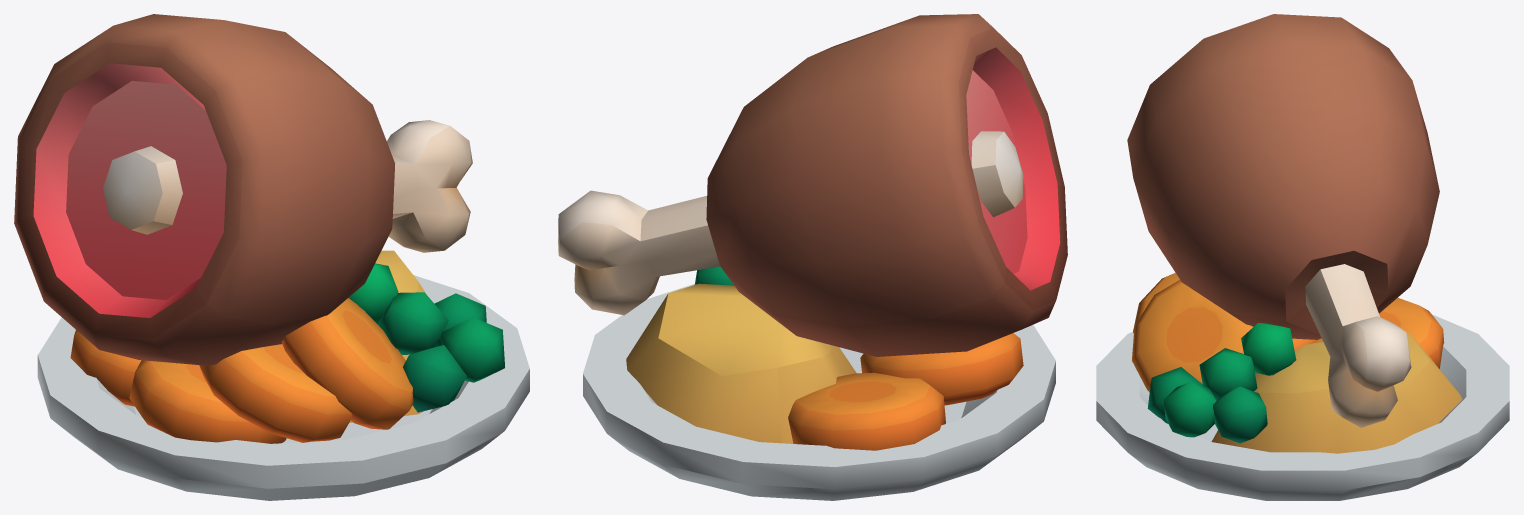
The model's file is food_dinner.obj.
The picture shows the model from 3 angles, left to right: view 1: azimuth 30°, elevation 25°; view 2: azimuth 150°, elevation 25°; view 3: azimuth 270°, elevation 25°; orthographic projection. The views are drawn at different scales.
Visible parts, largest first — view 1: food_dinner_Cylinder.116; view 2: food_dinner_Cylinder.116; view 3: food_dinner_Cylinder.116.
Boxes of the visible parts, box(x1,y1,x2,y2) form: food_dinner_Cylinder.116: box(14, 14, 529, 500); food_dinner_Cylinder.116: box(558, 14, 1067, 500); food_dinner_Cylinder.116: box(1096, 14, 1509, 500).
Bounding box in the file's own units: 1.04 × 0.9078 × 0.95.
Materials: 1 (1 with a texture image).
